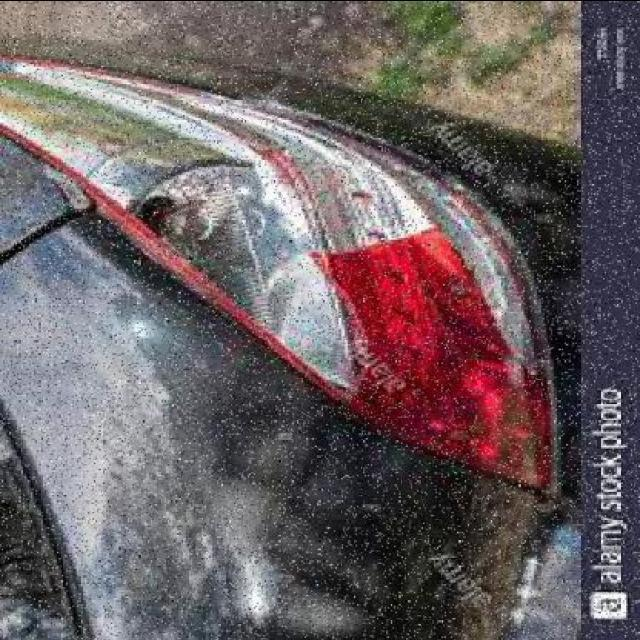Taillight-Damage: (31, 72, 575, 502)
